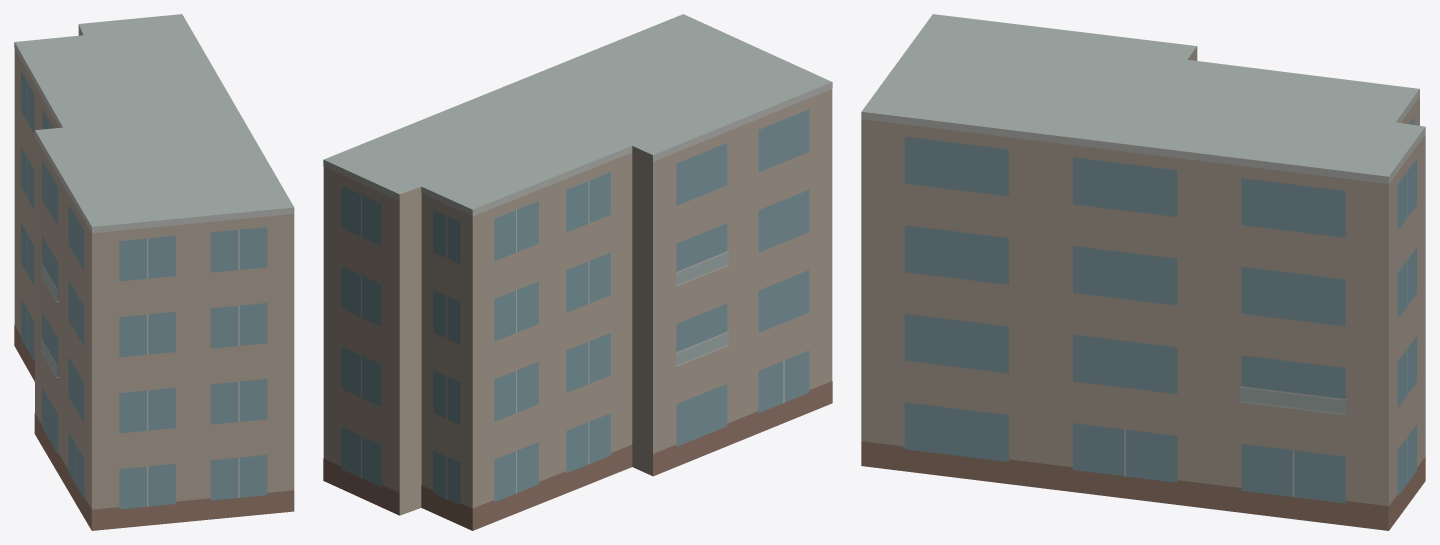
The model's file is survey-upis-32973376.glb.
3 renders of one model, left to right at view 1: azimuth 30°, elevation 25°; view 2: azimuth 150°, elevation 25°; view 3: azimuth 270°, elevation 25°, orthographic. The views are drawn at different scales.
Parts seen in each view (by area): view 1: survey-upis-32973376.tmp; view 2: survey-upis-32973376.tmp; view 3: survey-upis-32973376.tmp.
Boxes of the visible parts, <box> form: survey-upis-32973376.tmp: <box>14,14,294,530</box>; survey-upis-32973376.tmp: <box>323,14,832,530</box>; survey-upis-32973376.tmp: <box>861,14,1425,530</box>.
Bounding box in the file's own units: 11.53 × 11.7 × 16.9.
